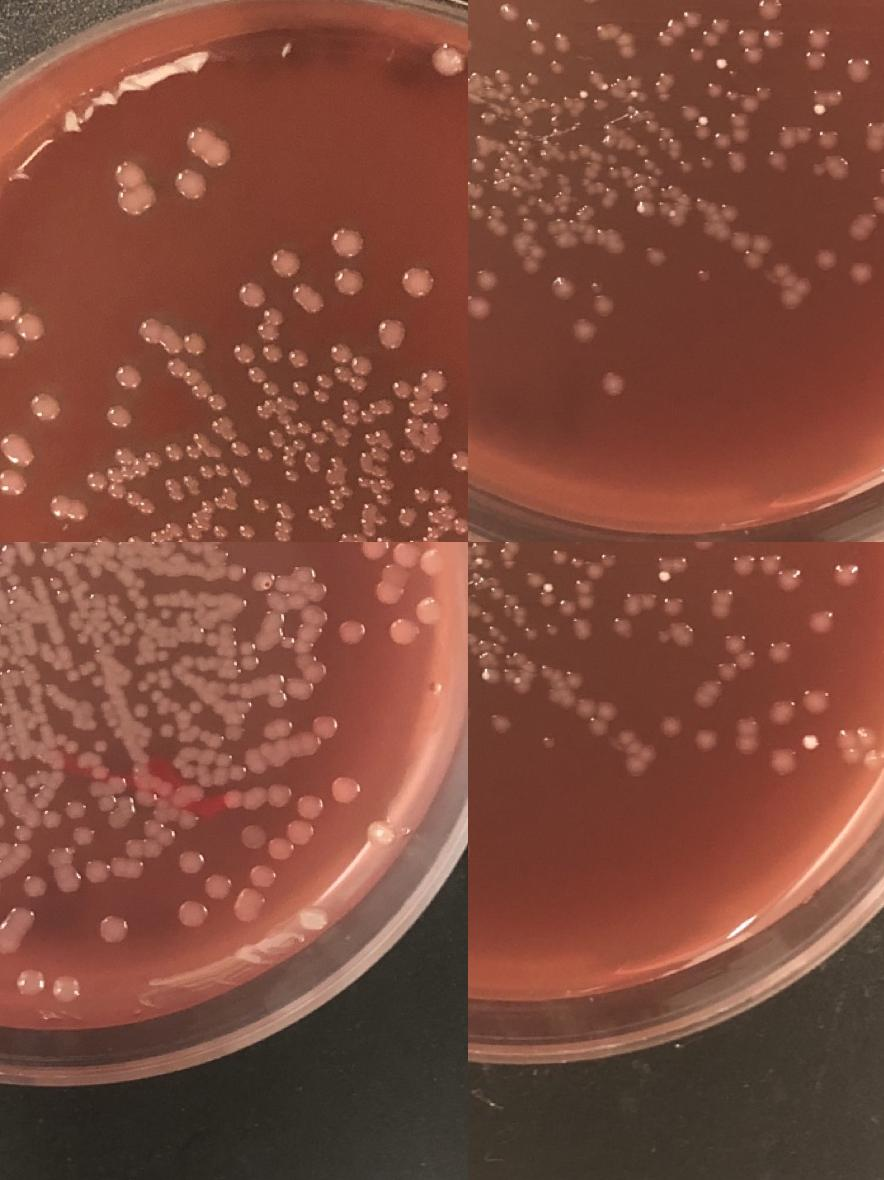pddamselae: (280, 416, 351, 484), (390, 368, 448, 438), (336, 476, 395, 542), (313, 341, 372, 404), (168, 358, 228, 412), (107, 444, 160, 500), (162, 431, 222, 464), (186, 128, 230, 168), (305, 486, 345, 530), (118, 162, 148, 216), (424, 504, 468, 537), (342, 398, 386, 426), (291, 280, 325, 313), (358, 432, 388, 468), (248, 366, 280, 397), (50, 496, 88, 522), (16, 314, 46, 342), (136, 316, 166, 344), (178, 170, 206, 199), (115, 362, 144, 390), (378, 322, 408, 349), (272, 250, 300, 278), (406, 268, 434, 296), (336, 269, 364, 297), (238, 280, 266, 308), (31, 394, 59, 422), (106, 402, 134, 430), (1, 436, 29, 464), (260, 308, 284, 340), (336, 230, 364, 257), (0, 467, 26, 495), (127, 491, 156, 516), (198, 462, 232, 482), (274, 499, 293, 534), (166, 521, 195, 542), (0, 293, 21, 321), (182, 332, 206, 356), (234, 342, 258, 366), (286, 348, 310, 372), (396, 504, 420, 528), (166, 476, 185, 504), (0, 333, 17, 361), (450, 449, 468, 472), (262, 345, 282, 365), (252, 492, 272, 512), (210, 522, 230, 542), (434, 483, 453, 503), (412, 485, 432, 504), (432, 400, 450, 420), (256, 444, 274, 464), (238, 520, 256, 540), (294, 380, 312, 398), (399, 447, 417, 465), (87, 472, 105, 490), (231, 441, 249, 458), (216, 416, 232, 434), (328, 454, 346, 468), (199, 500, 217, 514), (275, 394, 291, 408), (356, 476, 369, 491), (93, 536, 117, 542), (375, 535, 395, 542), (126, 536, 145, 542), (408, 536, 423, 542)
pdpiscicida: (697, 632, 759, 703), (714, 84, 772, 148), (560, 552, 618, 616), (732, 552, 802, 590), (834, 724, 884, 770), (852, 165, 884, 235), (616, 726, 658, 776), (772, 260, 814, 308), (690, 15, 730, 62), (658, 9, 702, 47), (732, 230, 772, 270), (577, 698, 617, 738), (594, 23, 636, 60), (734, 715, 762, 755), (738, 28, 764, 66), (777, 125, 813, 148), (622, 592, 658, 614), (644, 119, 676, 141), (488, 586, 520, 608), (806, 26, 832, 50), (846, 58, 872, 82), (848, 259, 874, 283), (591, 294, 617, 318), (570, 319, 596, 343), (835, 560, 861, 584), (669, 624, 695, 648), (769, 642, 795, 666), (804, 688, 830, 712), (693, 726, 719, 750), (772, 749, 798, 773), (812, 88, 844, 107), (548, 274, 573, 298), (602, 372, 627, 396), (824, 157, 850, 180), (710, 588, 736, 611), (810, 610, 836, 633), (768, 701, 794, 724), (656, 556, 688, 574), (498, 1, 523, 24), (473, 268, 499, 290), (605, 164, 635, 182), (468, 297, 490, 321), (756, 0, 782, 20), (468, 179, 482, 214), (865, 120, 884, 143), (805, 52, 825, 72), (768, 152, 788, 172), (816, 250, 836, 270), (645, 248, 664, 268), (664, 598, 683, 618), (490, 714, 509, 734), (720, 204, 739, 223), (763, 30, 783, 48), (820, 131, 838, 151), (614, 618, 632, 638), (662, 717, 680, 737), (566, 671, 584, 690), (525, 16, 541, 34), (525, 70, 541, 88), (540, 592, 556, 610), (604, 187, 620, 204), (550, 60, 566, 76), (587, 70, 603, 86), (660, 72, 676, 88), (592, 96, 608, 112), (553, 550, 569, 566), (546, 620, 560, 638), (683, 105, 699, 120), (696, 126, 711, 142), (576, 144, 592, 159), (701, 154, 716, 170), (490, 204, 505, 220), (528, 572, 544, 587), (522, 629, 538, 644), (530, 42, 545, 57), (708, 84, 724, 98), (548, 102, 564, 116), (468, 631, 480, 649), (554, 34, 568, 49), (678, 161, 692, 176), (505, 542, 521, 555), (691, 542, 717, 549), (468, 35, 475, 55)
vharveyi: (266, 795, 324, 863), (176, 746, 248, 788), (376, 543, 422, 606), (86, 838, 144, 883), (246, 568, 284, 610), (136, 666, 172, 703), (0, 910, 32, 951), (144, 820, 174, 856), (76, 752, 106, 780), (238, 637, 260, 672), (390, 618, 416, 646), (17, 811, 42, 840), (54, 976, 80, 1003), (424, 550, 450, 576), (416, 598, 442, 624), (339, 620, 365, 646), (313, 714, 339, 740), (332, 778, 358, 804), (266, 782, 292, 808), (70, 823, 96, 849), (240, 824, 266, 850), (180, 849, 206, 875), (250, 864, 276, 890), (22, 874, 48, 900), (206, 874, 232, 900), (236, 890, 262, 916), (180, 902, 206, 928), (101, 916, 127, 942), (226, 788, 263, 806), (368, 821, 394, 846), (19, 971, 45, 996), (25, 768, 52, 792), (361, 542, 387, 560), (66, 800, 86, 820), (268, 690, 288, 708), (306, 910, 324, 929), (297, 566, 315, 584), (310, 582, 328, 600), (287, 592, 305, 610), (300, 624, 318, 642), (308, 664, 326, 682), (290, 680, 308, 698), (134, 700, 150, 718), (97, 796, 113, 814), (118, 796, 134, 814), (62, 874, 78, 892), (44, 812, 60, 829), (180, 812, 196, 829), (138, 788, 152, 806), (95, 737, 111, 752), (190, 698, 204, 715), (108, 814, 124, 828), (84, 554, 99, 568), (64, 738, 78, 753), (132, 576, 146, 590), (107, 593, 121, 607), (160, 607, 174, 621), (156, 650, 170, 664), (168, 700, 182, 714), (160, 724, 174, 738), (68, 670, 80, 684), (209, 542, 226, 547), (0, 811, 5, 828)
